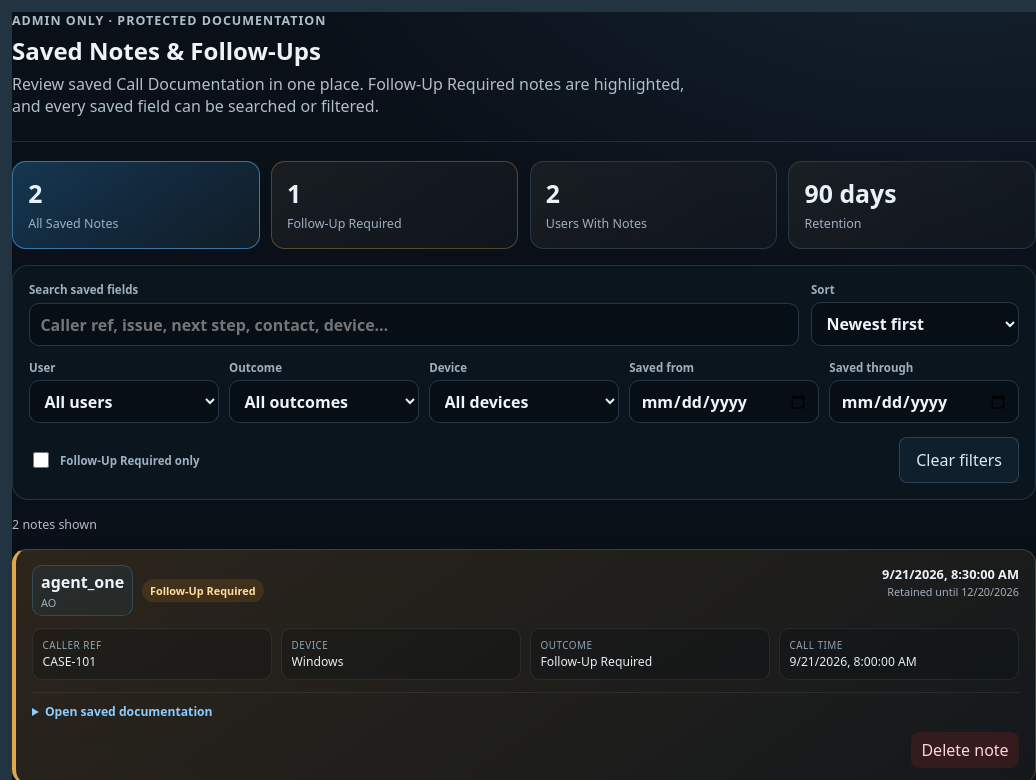
searches saved note fields and lets admin permanently delete a note
Check: the text "CASE-101" is shown, box [43,653,96,670]
Type "audio output" into the search field labelled "Search saved fields". click: (414, 325)
box: [29,304,799,346]
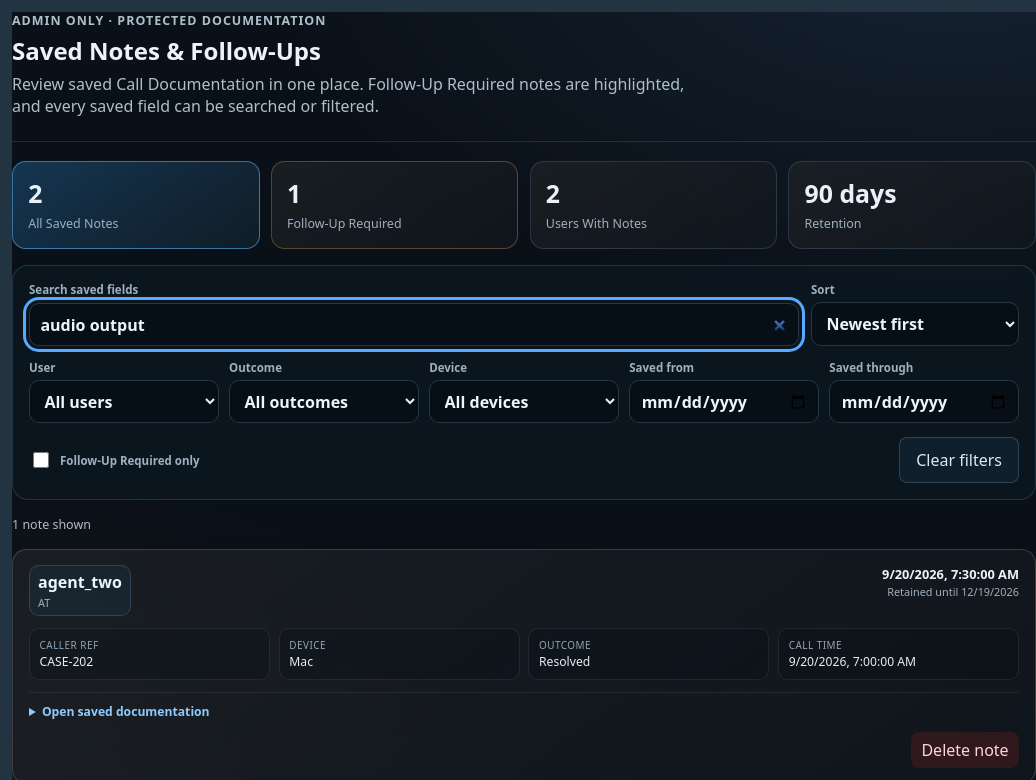
Check: the text "CASE-202" is shown, box [40,653,93,670]
Check: the text "CASE-101" is gone
Clear the search field labelled "Search saved fields". click: (414, 325)
box: [29,304,799,346]
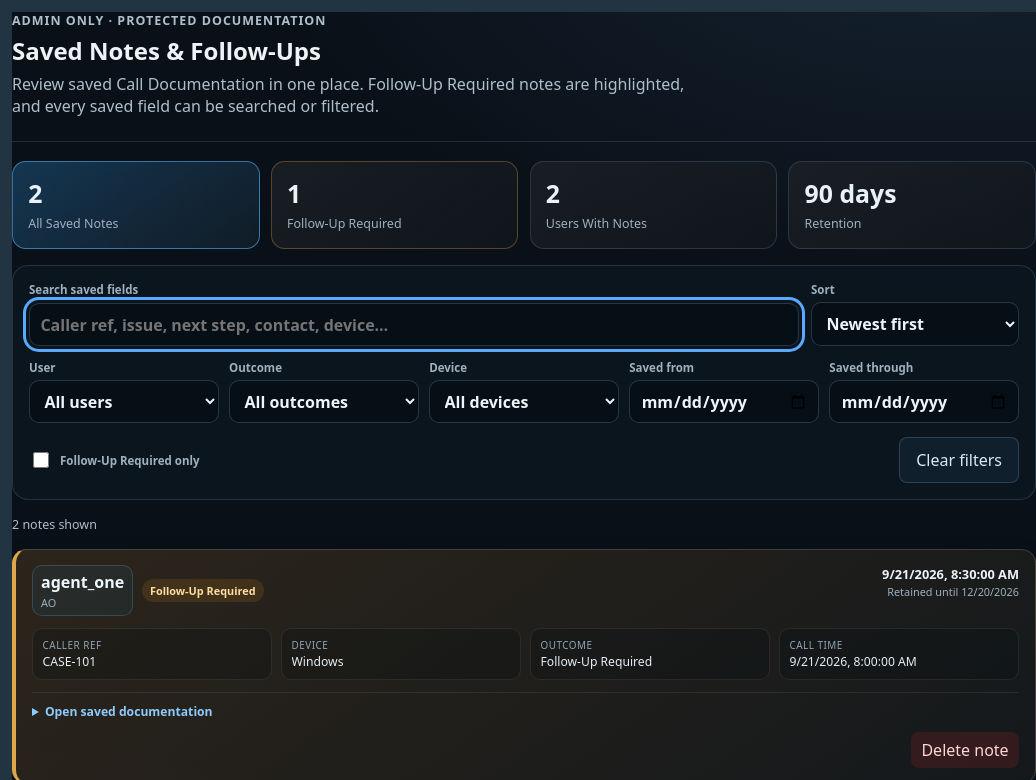
Click the button "Delete note". click: click(965, 750)
box: [911,732,1019,768]
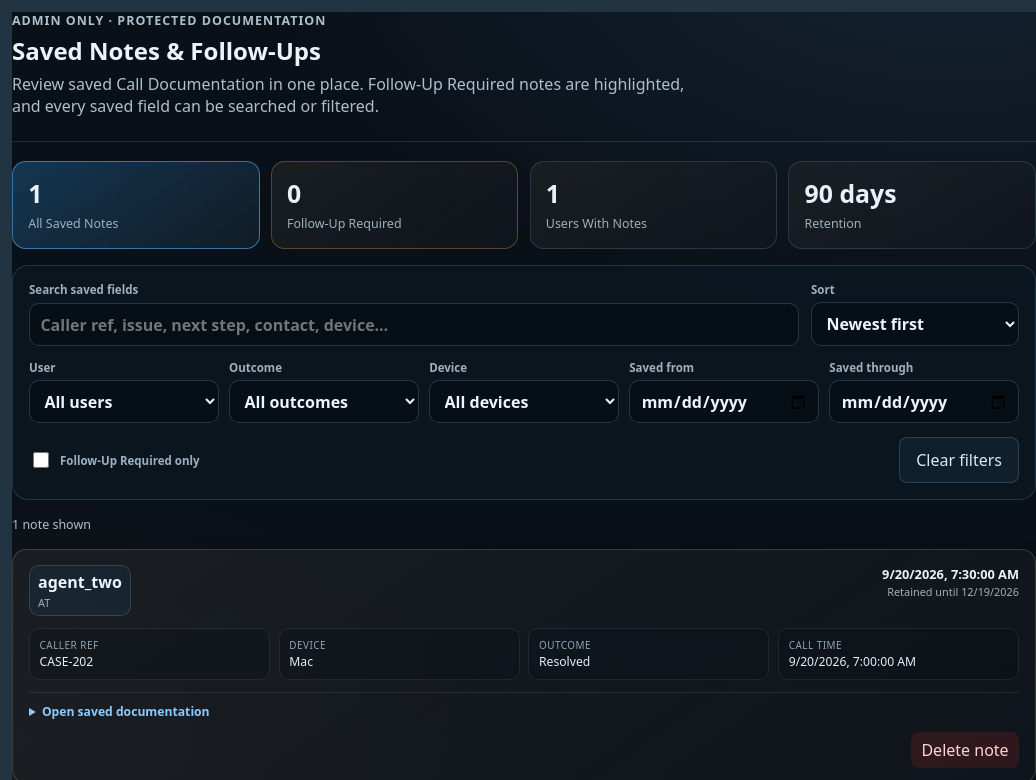
Check: the text "CASE-101" is gone
